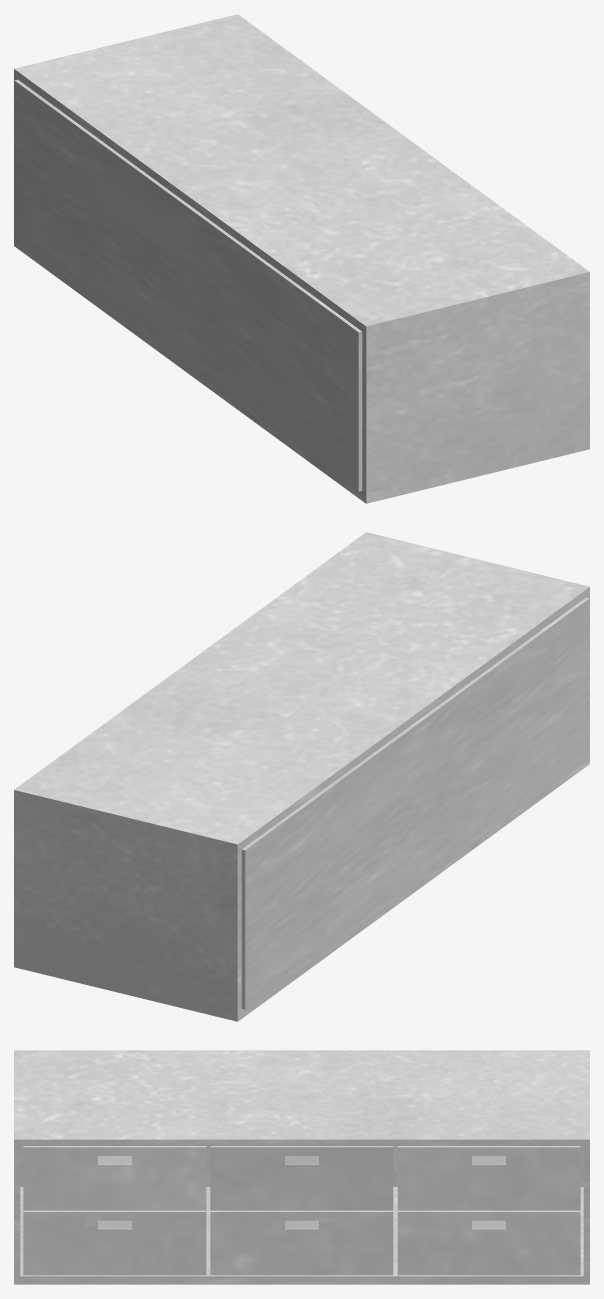
File: mobile.fbx
3 views of the same model, one above another, from view 1: azimuth 30°, elevation 25°; view 2: azimuth 150°, elevation 25°; view 3: azimuth 270°, elevation 25° (orthographic). The views are drawn at different scales.
Parts seen in each view (by area): view 1: Plane; view 2: Plane; view 3: Plane, Plane.008, Plane.007, Plane.006, Plane.001, Plane.009, Plane.010.
Boxes of the visible parts, box(x1,y1,x2,y2) form: Plane: box(14, 14, 589, 503); Plane: box(14, 532, 589, 1021); Plane: box(14, 1050, 589, 1284); Plane.008: box(23, 1210, 206, 1275); Plane.007: box(210, 1210, 393, 1275); Plane.006: box(397, 1210, 580, 1275); Plane.001: box(23, 1146, 206, 1210); Plane.009: box(210, 1146, 393, 1210); Plane.010: box(397, 1146, 580, 1210).
Size of the model in its own units: 68.81 by 51.3 by 185.
